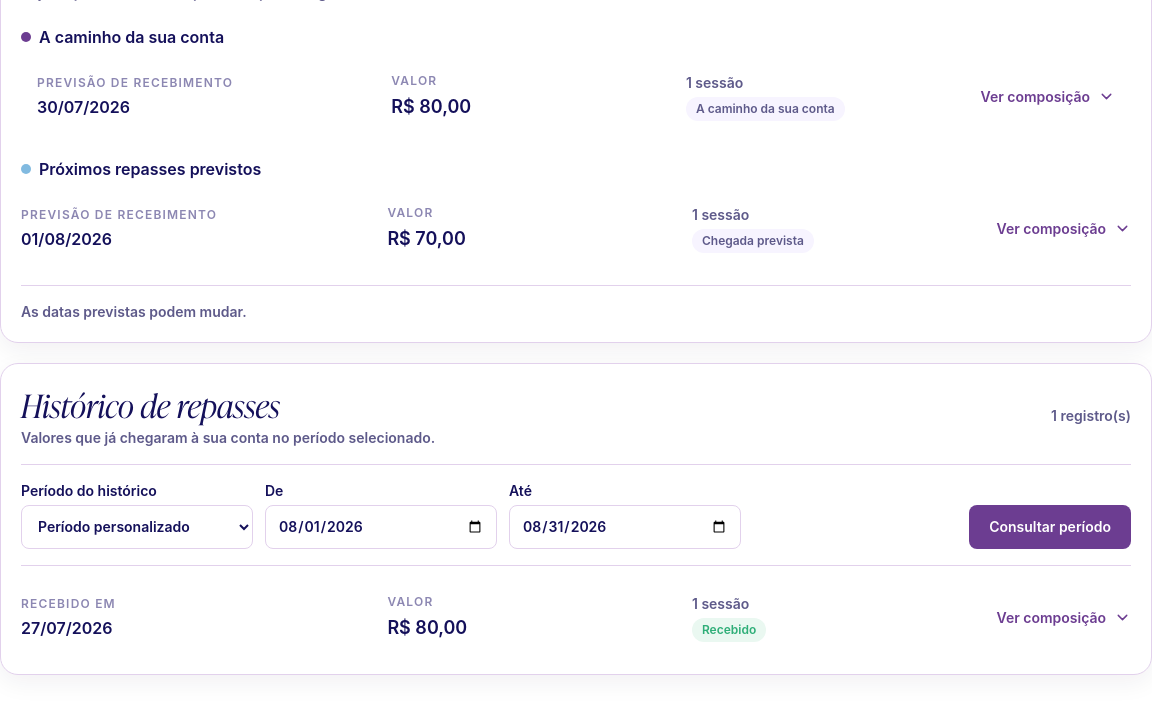
Test: TherapistFinancePage › shows custom date inputs in the payouts filters and hides them for preset periods
This screenshot has width=1152, height=715.
(page scrolled)
Expected: the date field labelled "De" holds "2026-08-01", [265,505,497,549]
Expected: the date field labelled "Até" holds "2026-08-31", [509,505,741,549]
Select "Últimos 90 dias" in the dropdown labelled "Período do histórico": (137,527) [21,505,253,549]
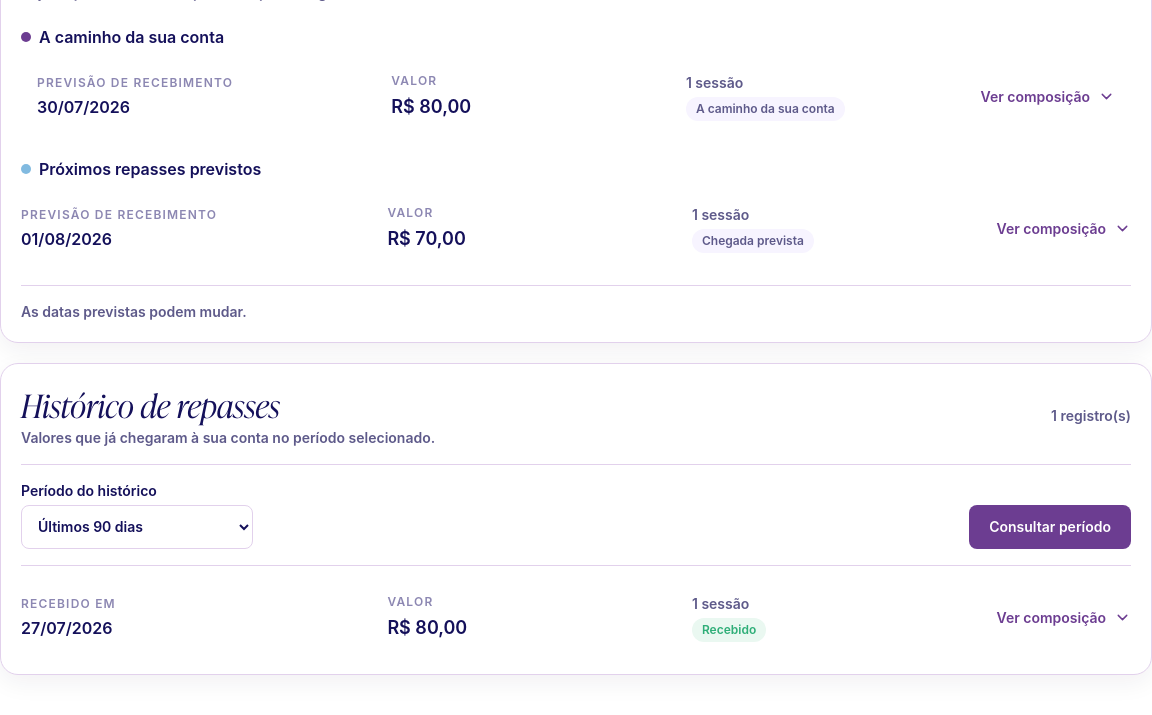
Expected: the label labelled "Até" is gone
